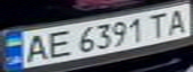1: (124, 16, 148, 43)
3: (93, 20, 115, 51)
6: (75, 24, 96, 53)
9: (109, 18, 130, 47)
A: (18, 31, 54, 64), (163, 6, 193, 35)
E: (39, 28, 75, 60)
T: (142, 10, 172, 39)
